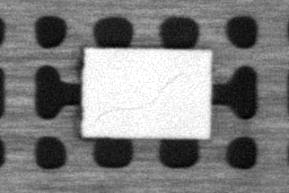DIE_CRACK: (94, 74, 179, 120)
